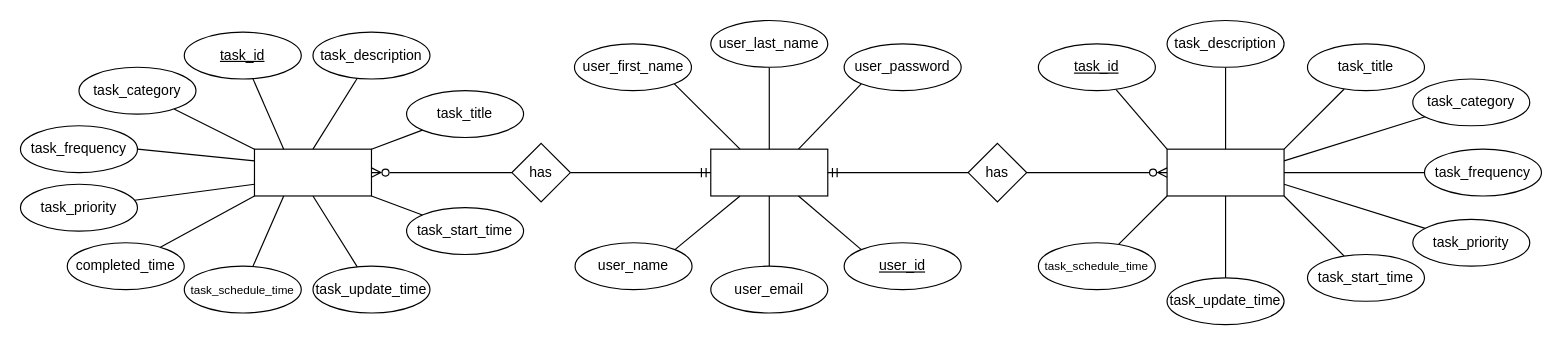
Image size: 1562x345. Some labels were removed from this diagram. The centre of each missing label's shape, as x and y in pixels:
"completed_task" belongs at point (312, 172).
"task" belongs at point (1225, 172).
"user" belongs at point (769, 172).
